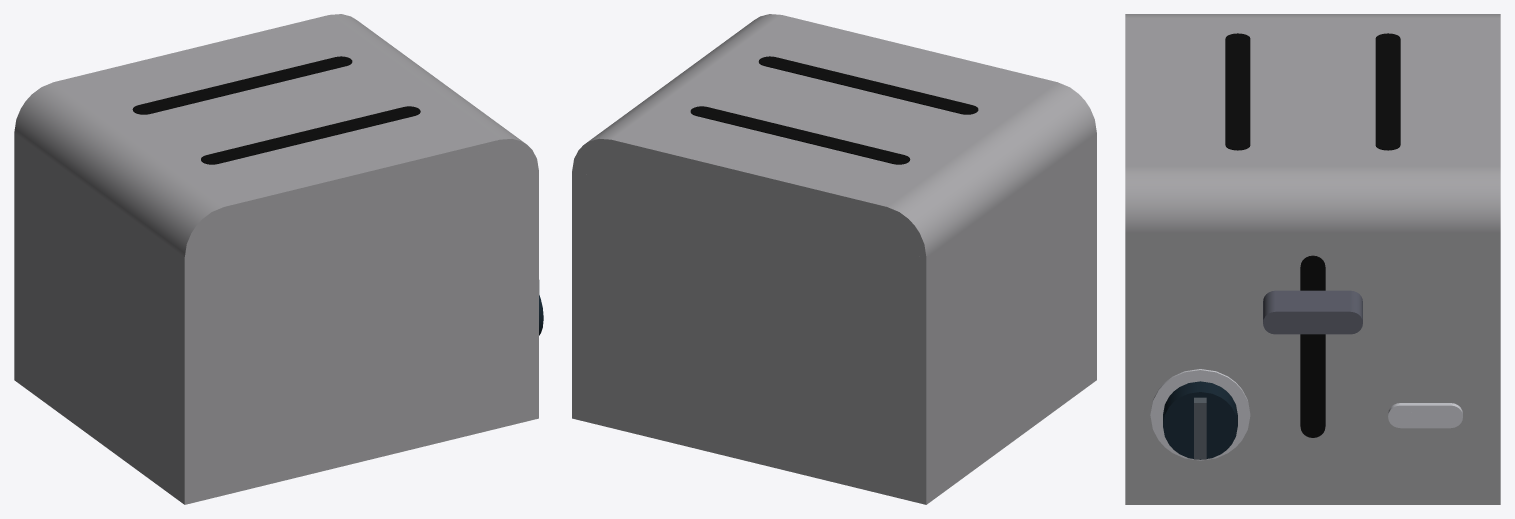
Rendered from ToastER.fbx.
The picture shows the model from 3 angles, left to right: view 1: azimuth 30°, elevation 25°; view 2: azimuth 150°, elevation 25°; view 3: azimuth 270°, elevation 25°; orthographic projection. The views are drawn at different scales.
Parts seen in each view (by area): view 1: ToasterModel; view 2: ToasterModel; view 3: ToasterModel.
Part boxes in pixels (<box>): ToasterModel: <box>14,14,543,504</box>; ToasterModel: <box>572,14,1096,504</box>; ToasterModel: <box>1125,14,1500,504</box>.
Size of the model in its own units: 201 by 140 by 150.
